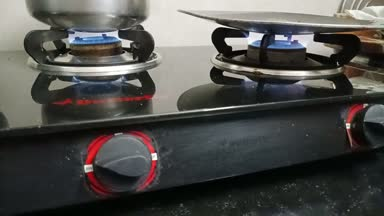flame_gas_on: (39, 21, 159, 193), (216, 24, 352, 80)
